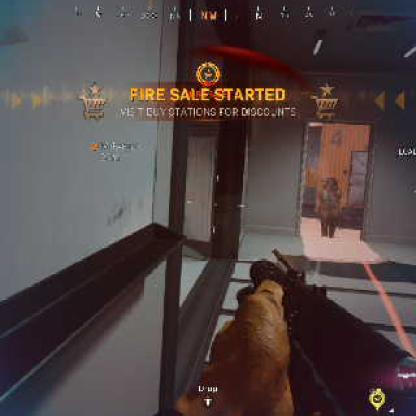enemy: (317, 176, 345, 239)
